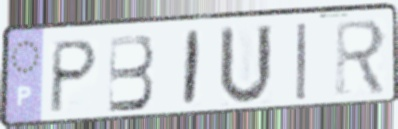B: (106, 32, 156, 115)
I: (180, 29, 203, 111), (295, 21, 309, 103)
P: (46, 37, 101, 117)
R: (334, 17, 389, 98)
U: (217, 22, 276, 109)
